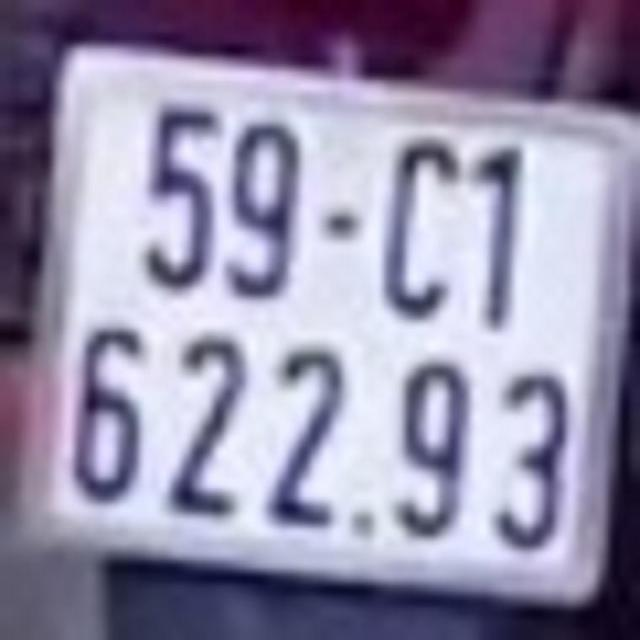1: (470, 135, 514, 332)
2: (172, 332, 239, 519), (280, 337, 337, 529)
3: (501, 374, 565, 560)
5: (148, 103, 216, 286)
6: (82, 326, 138, 502)
9: (396, 354, 462, 537), (236, 124, 293, 300)
C: (386, 139, 456, 327)
